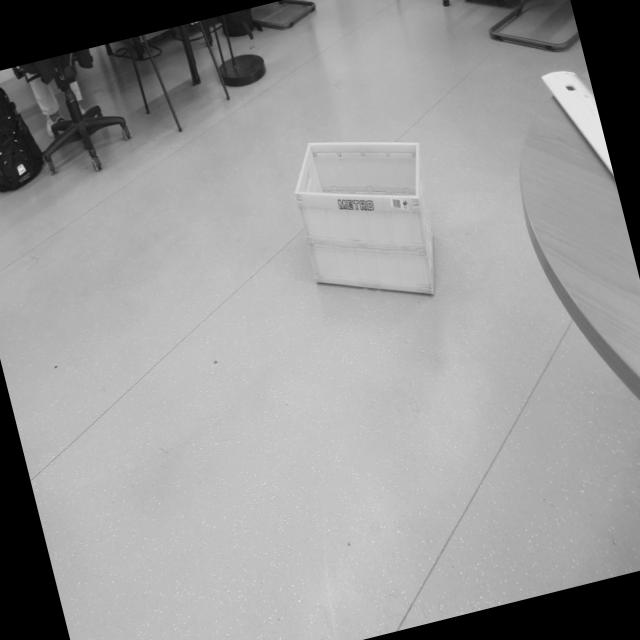box: (272, 95, 462, 336)
